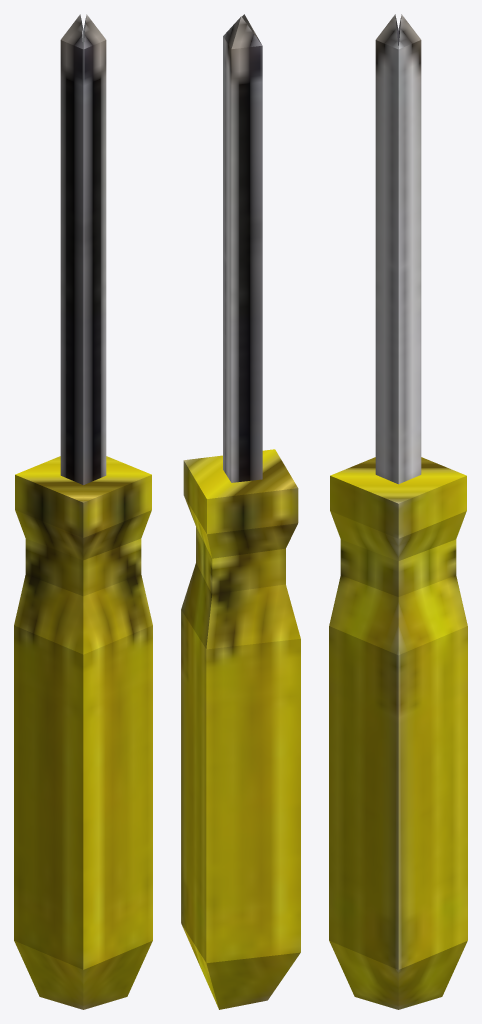
Rendered from ScrewDriverPlastic.obj.
3 renders of one model, left to right at view 1: azimuth 90°, elevation 25°; view 2: azimuth 150°, elevation 25°; view 3: azimuth 270°, elevation 25°, orthographic.
Parts seen in each view (by area): view 1: ScrewDriverPlastic; view 2: ScrewDriverPlastic; view 3: ScrewDriverPlastic.
Part boxes in pixels (left/top/right/bottom): ScrewDriverPlastic: left=14, top=14, right=152, bottom=1009; ScrewDriverPlastic: left=181, top=14, right=300, bottom=1009; ScrewDriverPlastic: left=329, top=14, right=467, bottom=1009.
Bounding box in the file's own units: 0.164 × 1.28 × 0.164.
Materials: 1 (1 with a texture image).
